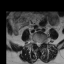CCS_normal: (38, 40, 39, 48)
LFS_normal: (41, 39, 43, 45)
LLS_normal: (39, 40, 41, 47)
RFS_normal: (34, 39, 36, 46)
RLS_normal: (36, 40, 38, 47)
